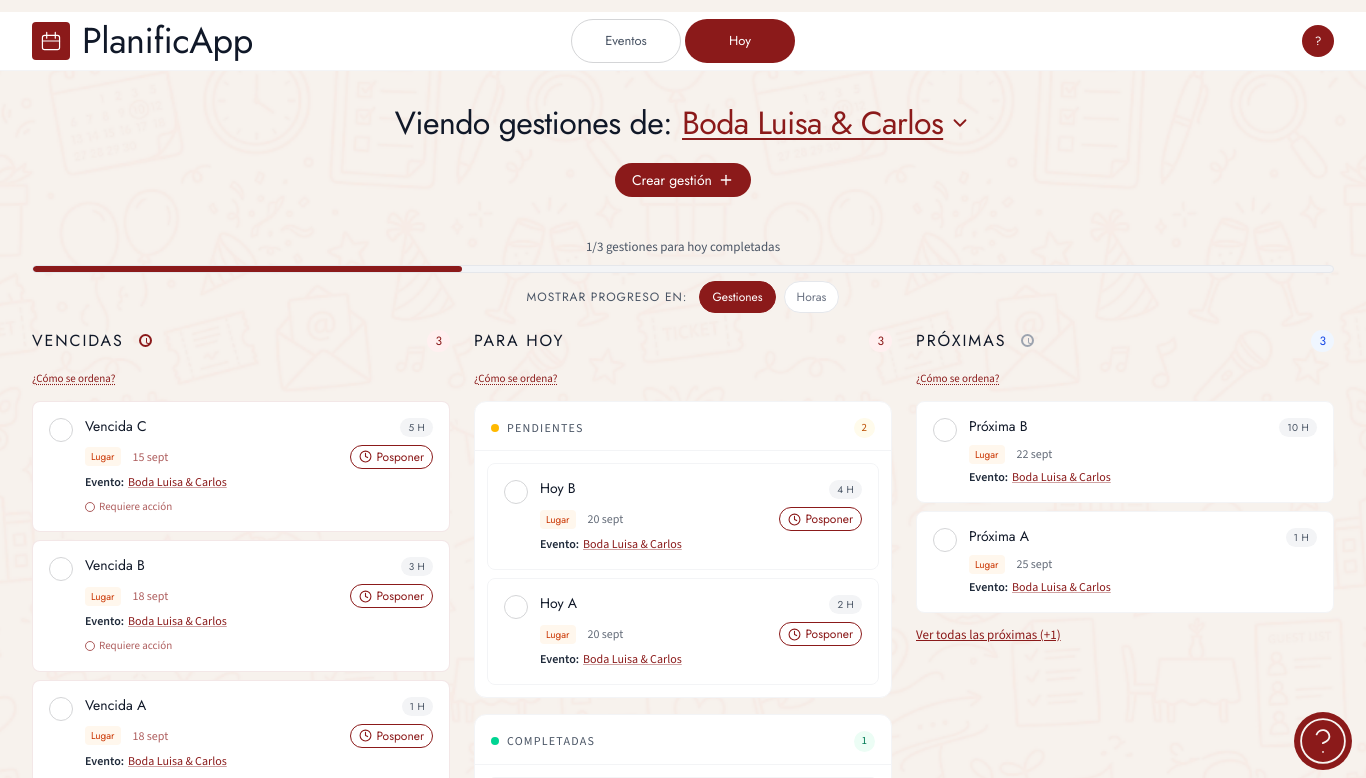
Scenario: HomePage › una próxima a +20 días queda oculta hasta pulsar Ver todas las próximas
Expected: the text "Vencida A" is shown, [85, 696, 146, 714]
Click the button "Ver todas las próximas (+1)".
click(988, 634)  # box [916, 624, 1061, 644]
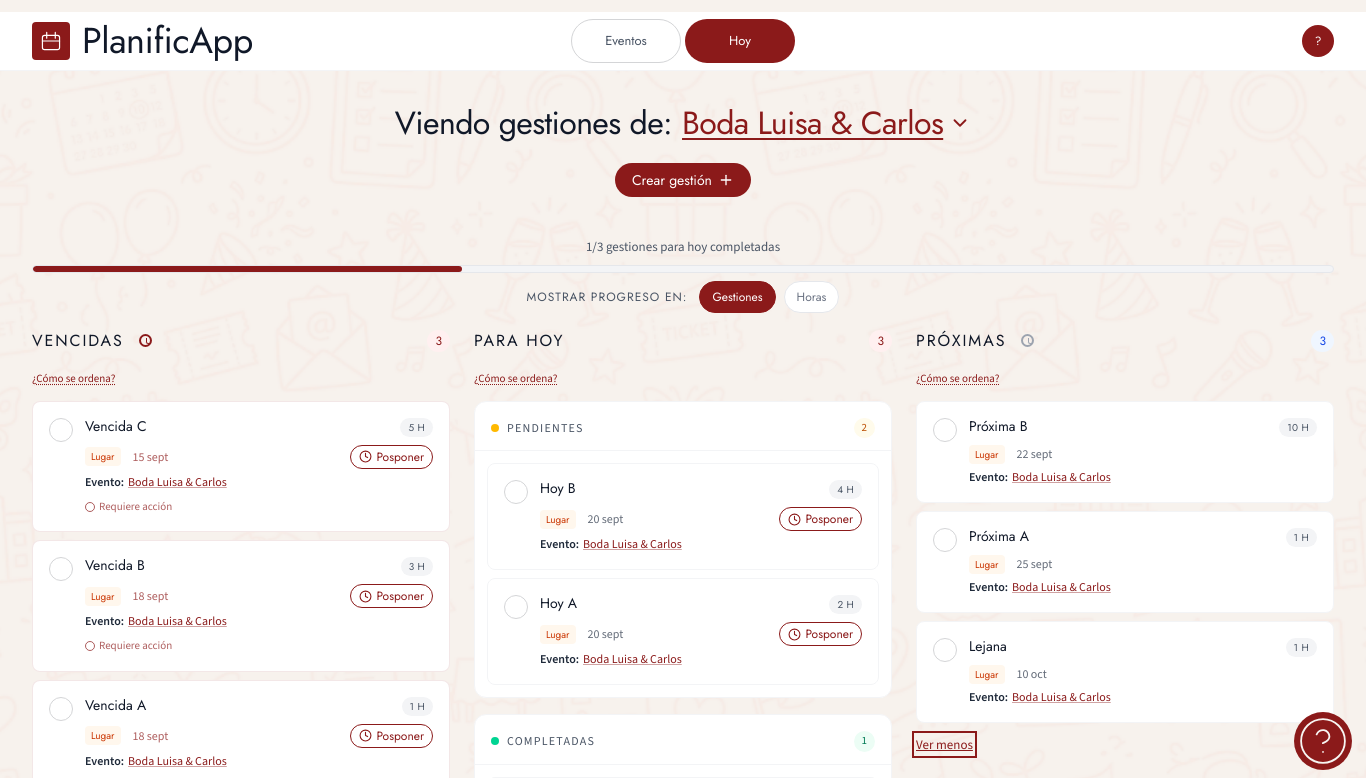
Expected: the text "Lejana" is shown, [969, 638, 1007, 655]
Expected: the button "Ver menos" is expanded, [916, 734, 973, 754]
